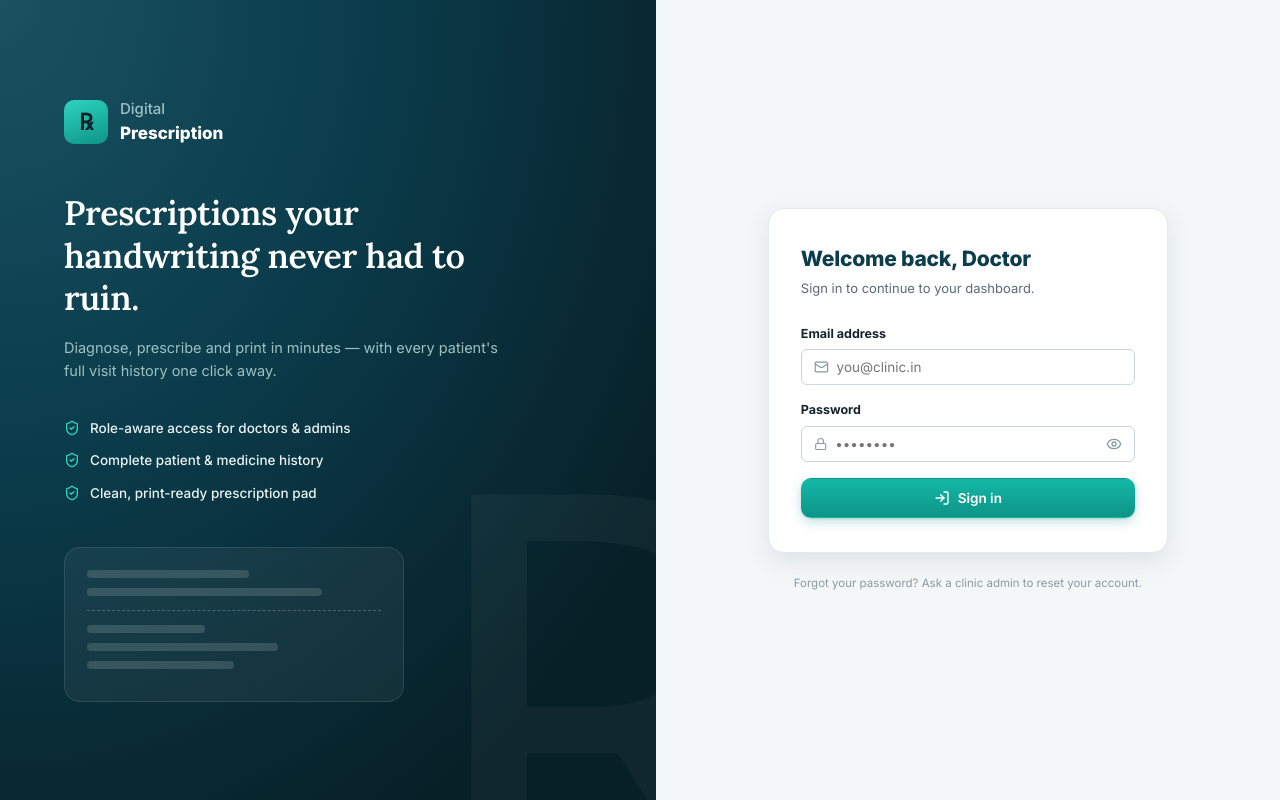
Scenario: LoginPage › shows and hides the password with the eye button
In the password field labelled "Password": (963, 444) x1=835 y1=427 x2=1092 y2=461, type "secret-value"
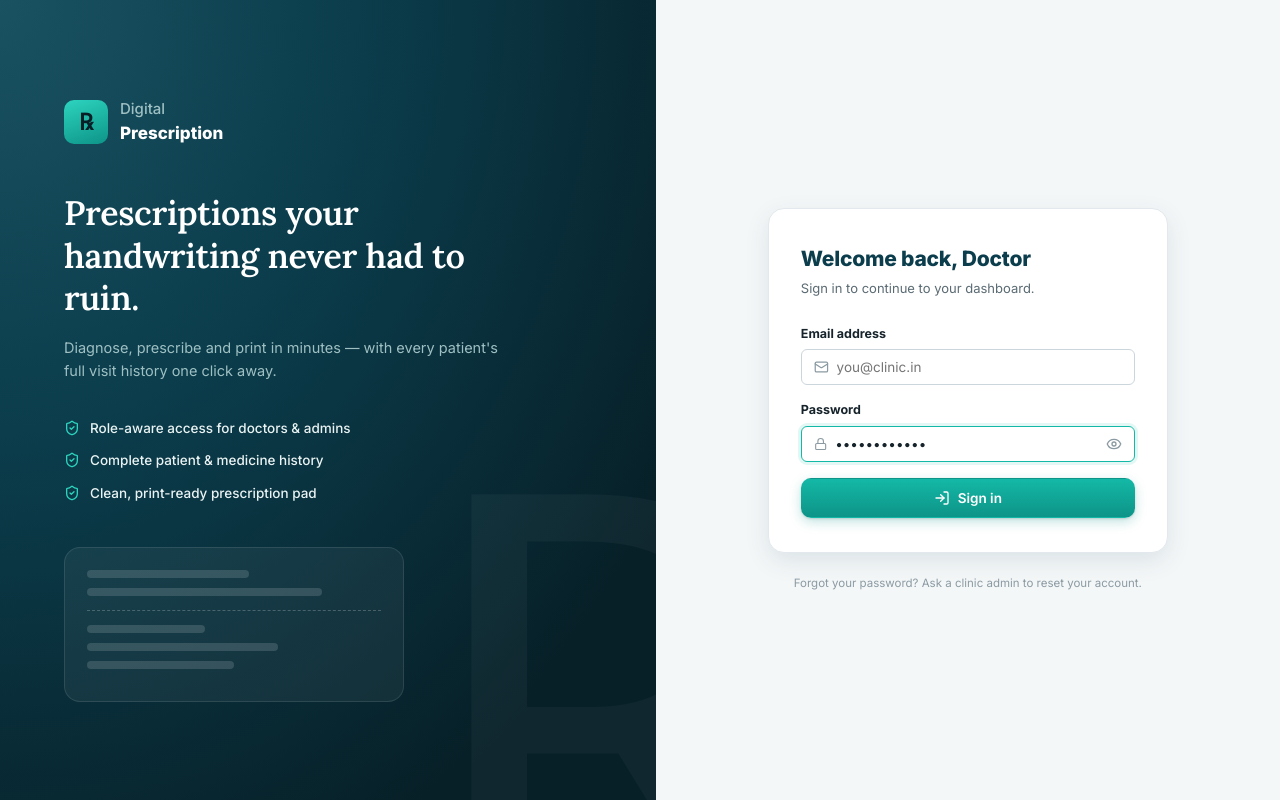
Click the button named "Show password": click(1114, 444) x1=1100 y1=430 x2=1128 y2=458
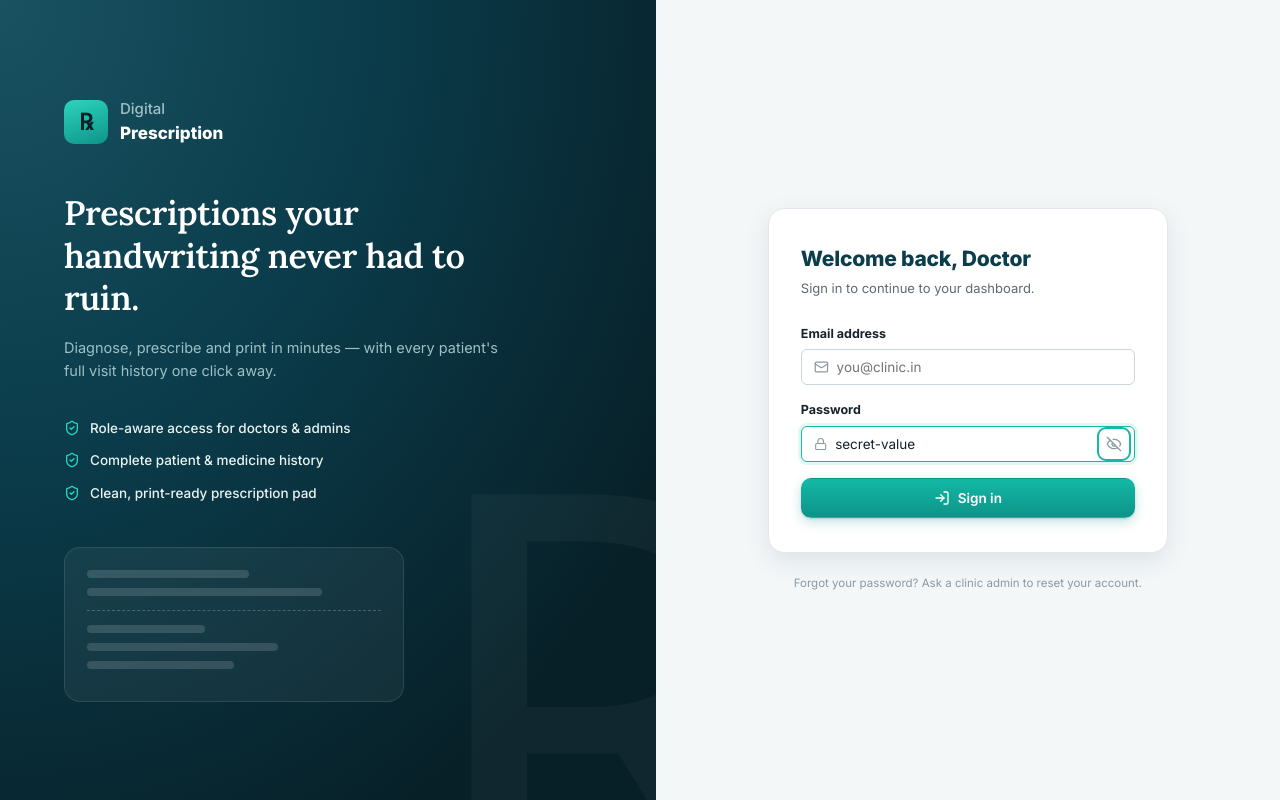
Expected: the field labelled "Password" shows its text, x1=835 y1=427 x2=1092 y2=461
Click the button named "Hide password": click(1114, 444) x1=1100 y1=430 x2=1128 y2=458
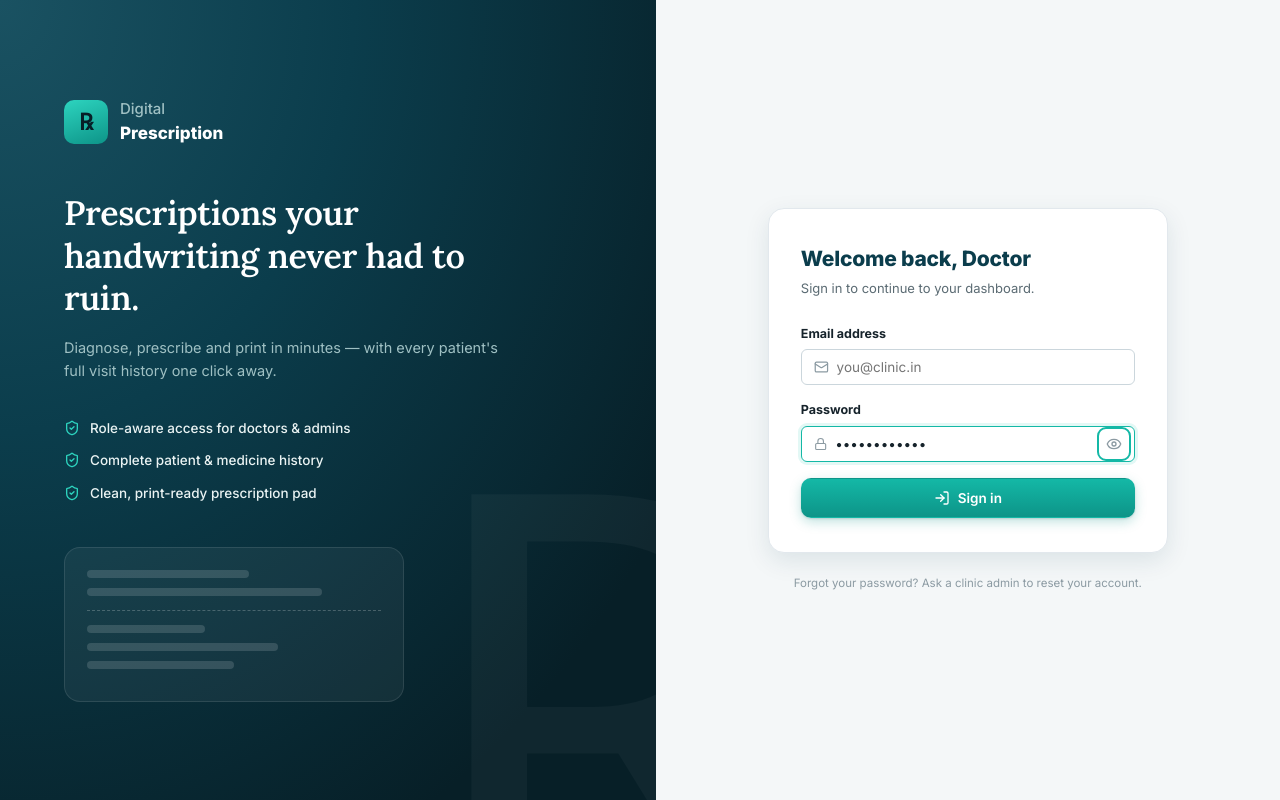
Expected: the password field labelled "Password" hides its text, x1=835 y1=427 x2=1092 y2=461
